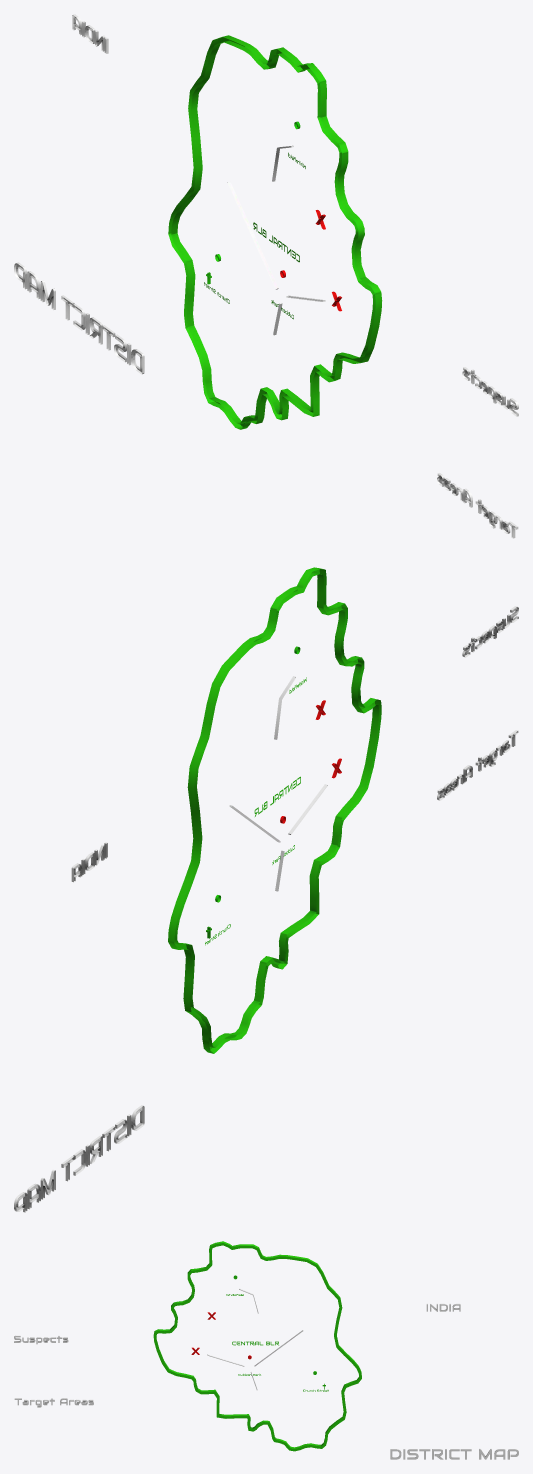
The model's file is MapDetails.FBX.
The picture shows the model from 3 angles, top to bottom: view 1: azimuth 30°, elevation 25°; view 2: azimuth 150°, elevation 25°; view 3: azimuth 270°, elevation 25°; orthographic projection. The views are drawn at different scales.
Visible parts, largest first — view 1: MapDetails; view 2: MapDetails; view 3: MapDetails.
Part boxes in pixels (<box>): MapDetails: <box>14,14,518,538</box>; MapDetails: <box>14,567,518,1212</box>; MapDetails: <box>14,1241,518,1459</box>.
Bounding box in the file's own units: 2.75 × 177 × 372.
